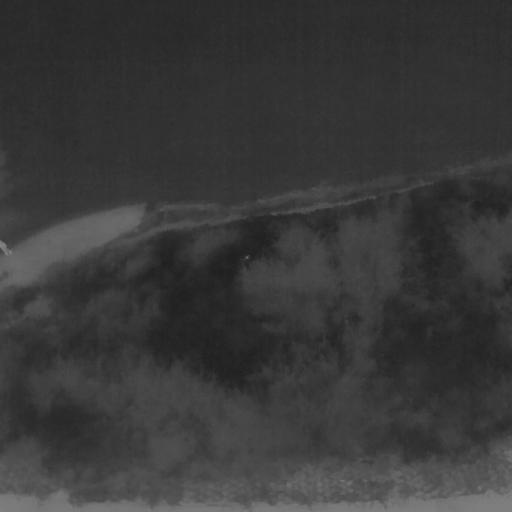uav: (244, 253, 252, 263)
